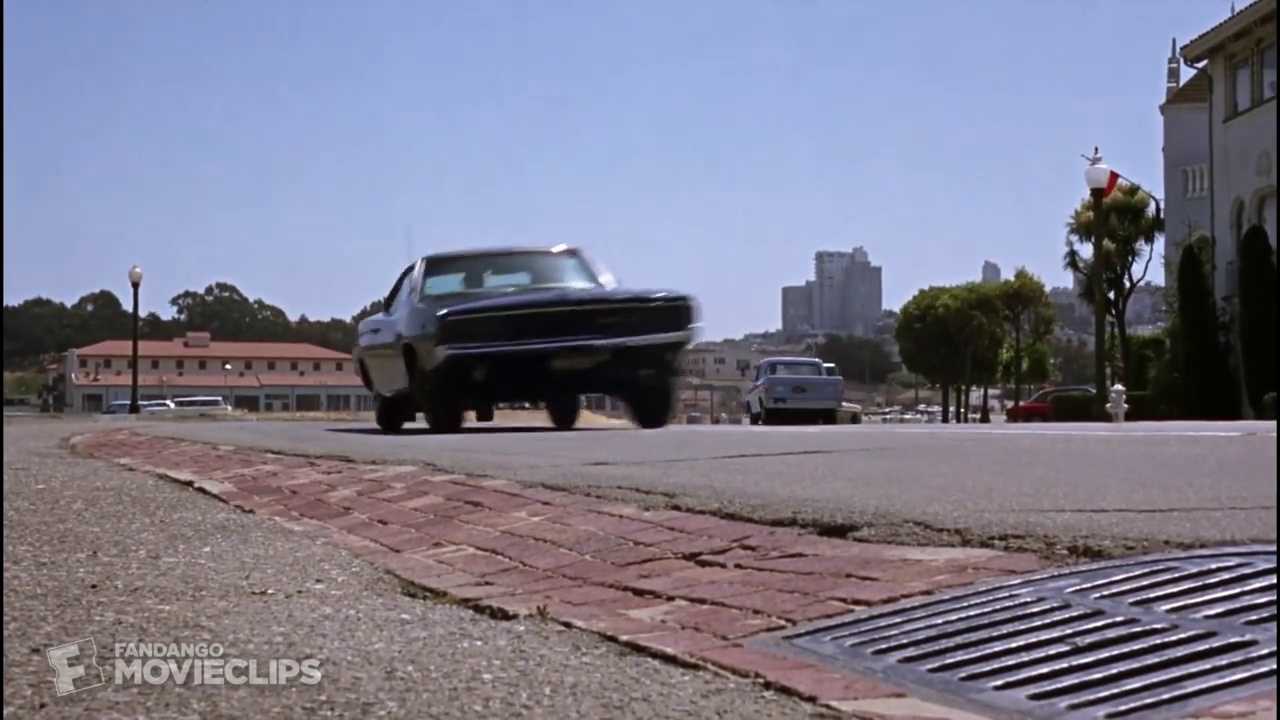car: (345, 222, 702, 438), (990, 377, 1105, 434), (139, 389, 247, 419), (121, 394, 178, 420), (91, 392, 139, 420)
fire hydrant: (1096, 380, 1136, 431)
truck: (733, 346, 851, 437)
